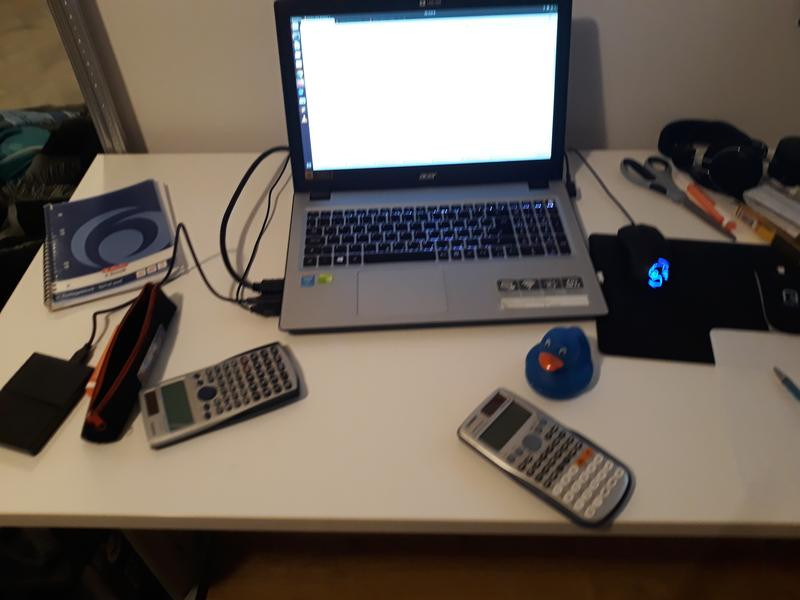CASIO_fx_991ES: (133, 329, 302, 442)
CASIO_fx_991ES_PLUS: (455, 371, 643, 533)
plava_patkica: (514, 313, 603, 406)
